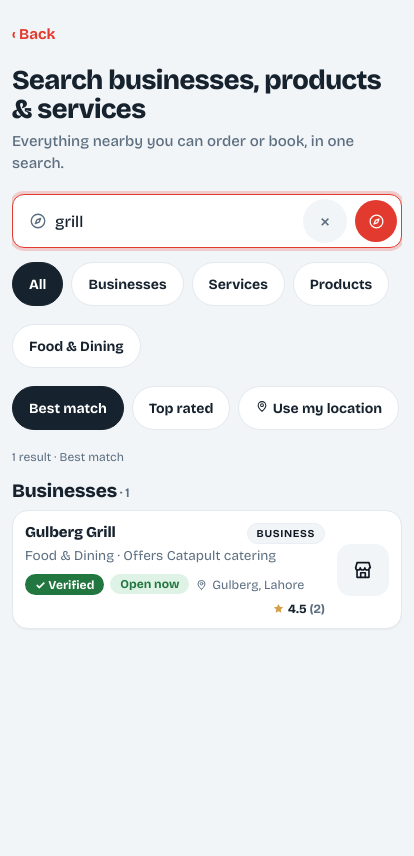
SearchScreen (Phase 14 unified search) › clear button resets the input and the committed query
Expected: the text "Gulberg Grill" is shown, [25,523,116,541]
Click the button named "clear search".
click(325, 221)  # box [303,199,347,243]
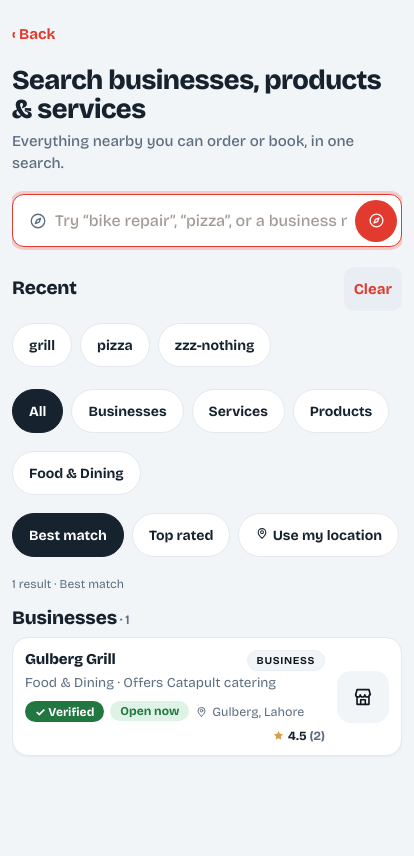
Expected: the field named "search businesses, services, and products" is empty, [55,199,347,242]
